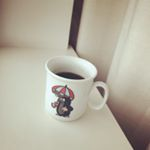cups: (41, 55, 112, 123)
